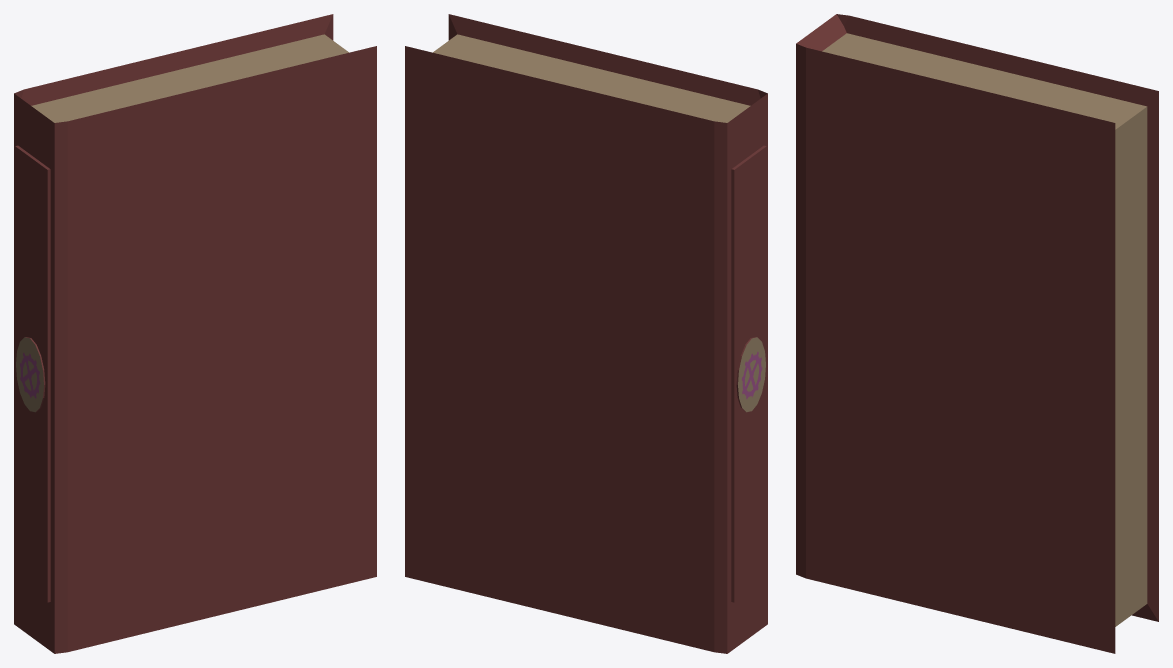
Rendered from BookGear.fbx.
3 views of the same model, side by side, from view 1: azimuth 30°, elevation 25°; view 2: azimuth 150°, elevation 25°; view 3: azimuth 330°, elevation 25° (orthographic).
Parts seen in each view (by area): view 1: BookCover, Insert, SymbolFace; view 2: BookCover, Insert, SymbolFace; view 3: BookCover, Insert.
Boxes of the visible parts, x1,y1,x2,y2 form: BookCover: [14, 14, 376, 653]; Insert: [31, 34, 348, 122]; SymbolFace: [16, 337, 43, 412]; BookCover: [405, 14, 767, 653]; Insert: [433, 34, 750, 122]; SymbolFace: [738, 337, 765, 412]; BookCover: [796, 14, 1158, 653]; Insert: [822, 33, 1147, 626].
Bounding box in the file's own units: 321 × 500 × 74.49.
3 materials, 1 textured.
